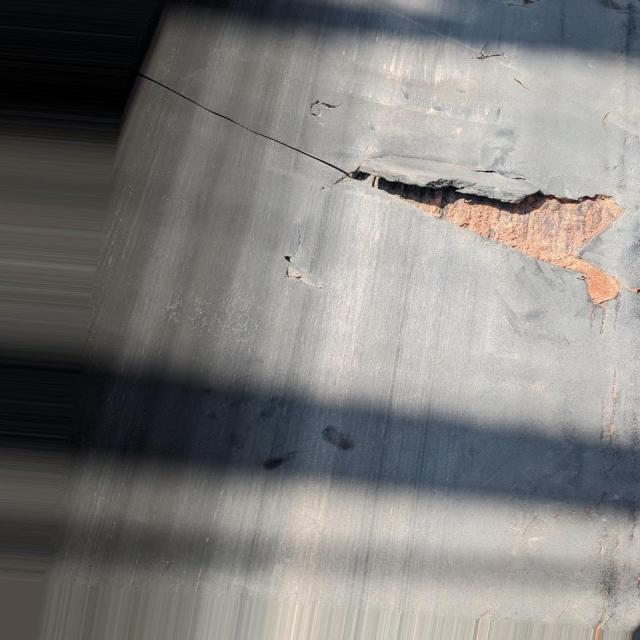Tear: (138, 78, 635, 323), (283, 219, 316, 300), (467, 40, 511, 64), (304, 99, 347, 123), (504, 0, 542, 11), (510, 78, 536, 93)
